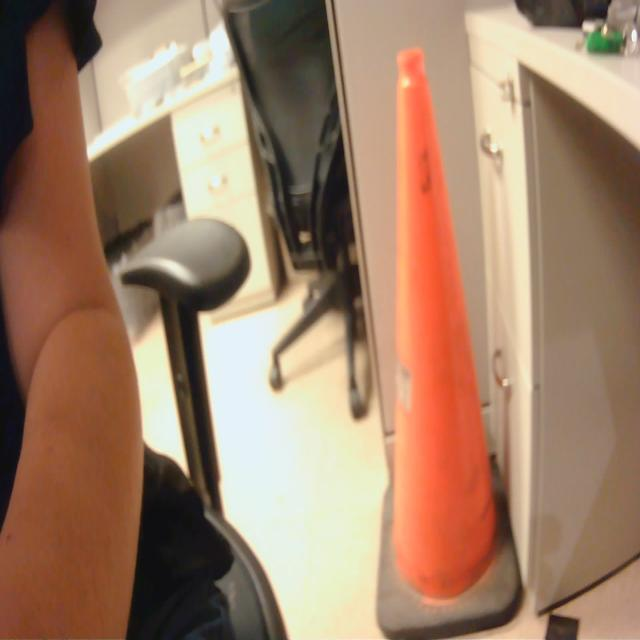traffic cone: (373, 43, 529, 640)
